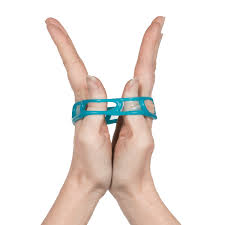hand: (40, 4, 181, 205), (35, 7, 109, 203), (113, 5, 186, 200)
